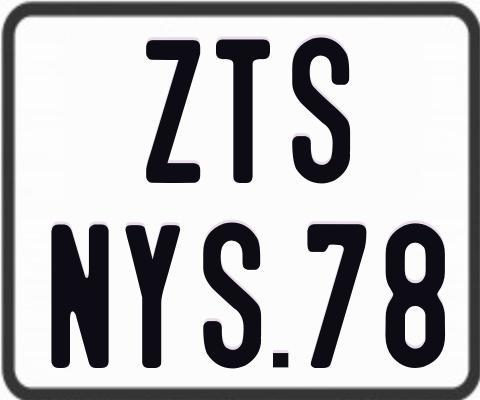7: (305, 223, 369, 373)
8: (384, 220, 445, 366)
N: (49, 224, 108, 368)
S: (291, 35, 354, 187), (201, 219, 262, 366)
T: (214, 38, 274, 185)
Y: (123, 224, 182, 369)
Z: (146, 40, 200, 186)
